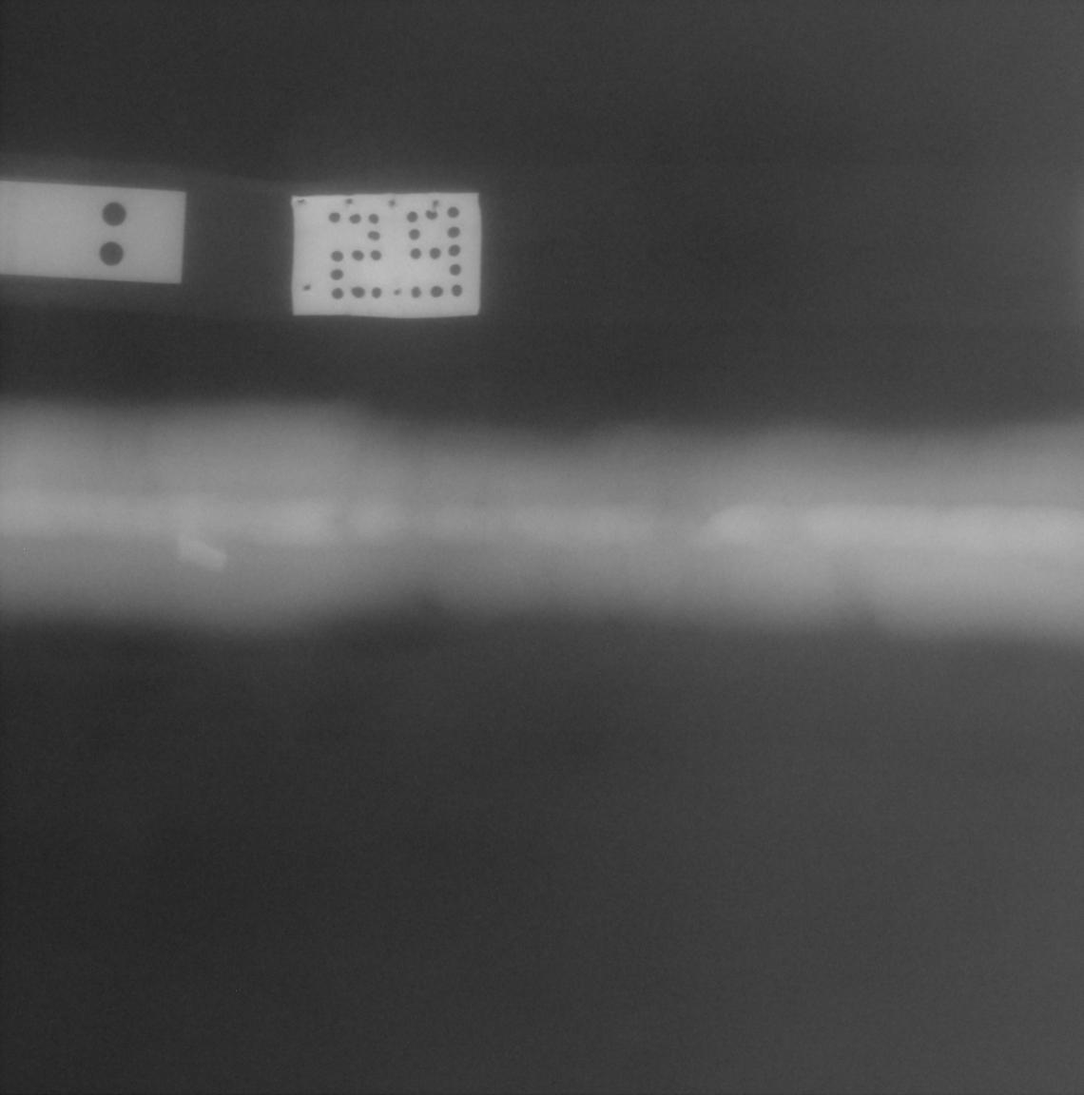Inclusion: (331, 517, 345, 524)
